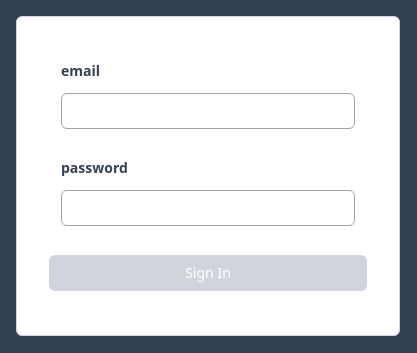
Test: Auth Page › should check if input value is valid › both values are valid
Type "cos4338@gmail.com" into the field named "email".
click(208, 111); type("cos4338@gmail.com")  # box x1=61 y1=93 x2=355 y2=129
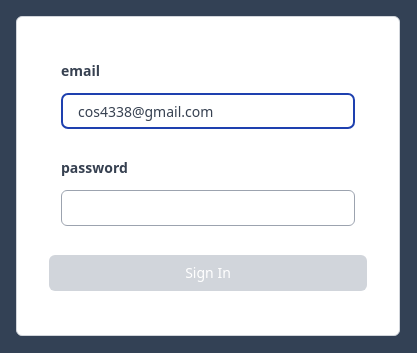
Type "123456789" into the password field named "password".
click(208, 208); type("123456789")  # box x1=61 y1=190 x2=355 y2=226
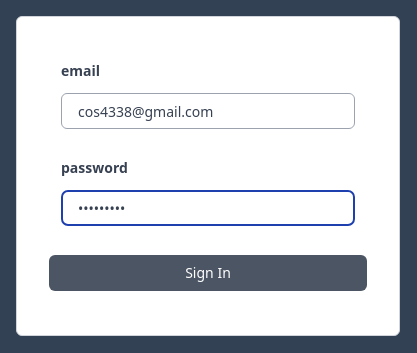
Now the button "Sign In" is enabled, box x1=49 y1=255 x2=367 y2=291
